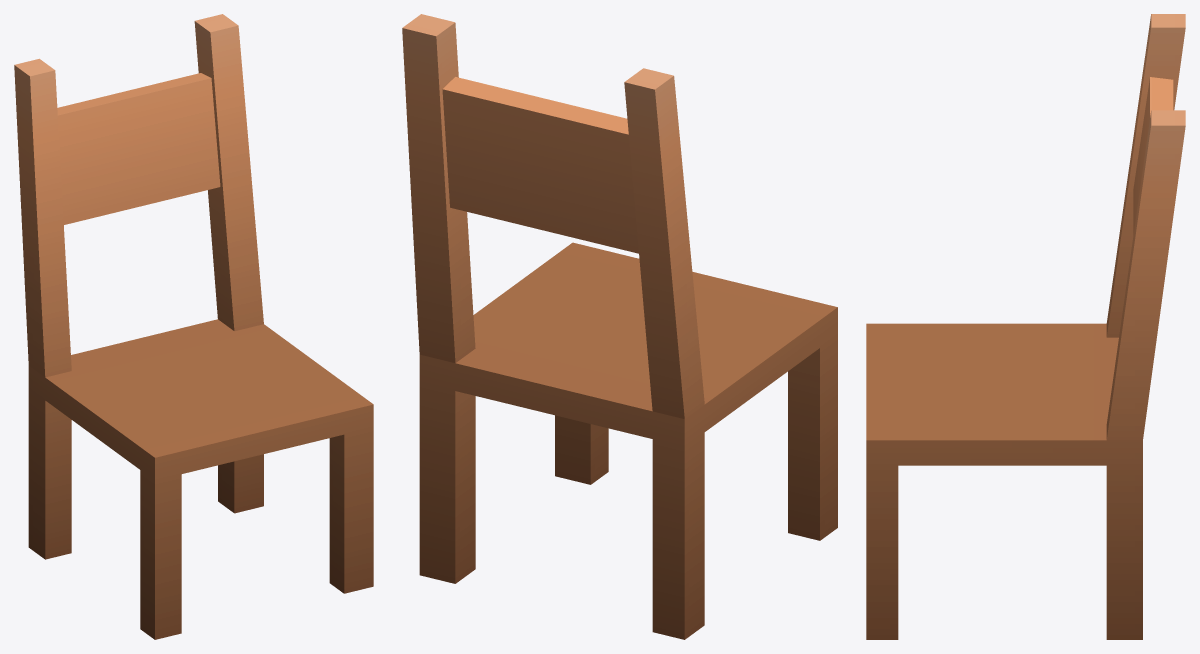
Rendered from low_poly_chair.glb.
The picture shows the model from 3 angles, left to right: view 1: azimuth 30°, elevation 25°; view 2: azimuth 150°, elevation 25°; view 3: azimuth 270°, elevation 25°; orthographic projection. The views are drawn at different scales.
Visible parts, largest first — view 1: Chair; view 2: Chair; view 3: Chair.
Boxes of the visible parts, left/top/right/bottom form: Chair: left=14, top=14, right=373, bottom=639; Chair: left=402, top=14, right=837, bottom=639; Chair: left=866, top=14, right=1185, bottom=639.
Size of the model in its own units: 0.9885 by 2.02 by 1.14.
1 material, 1 textured.
